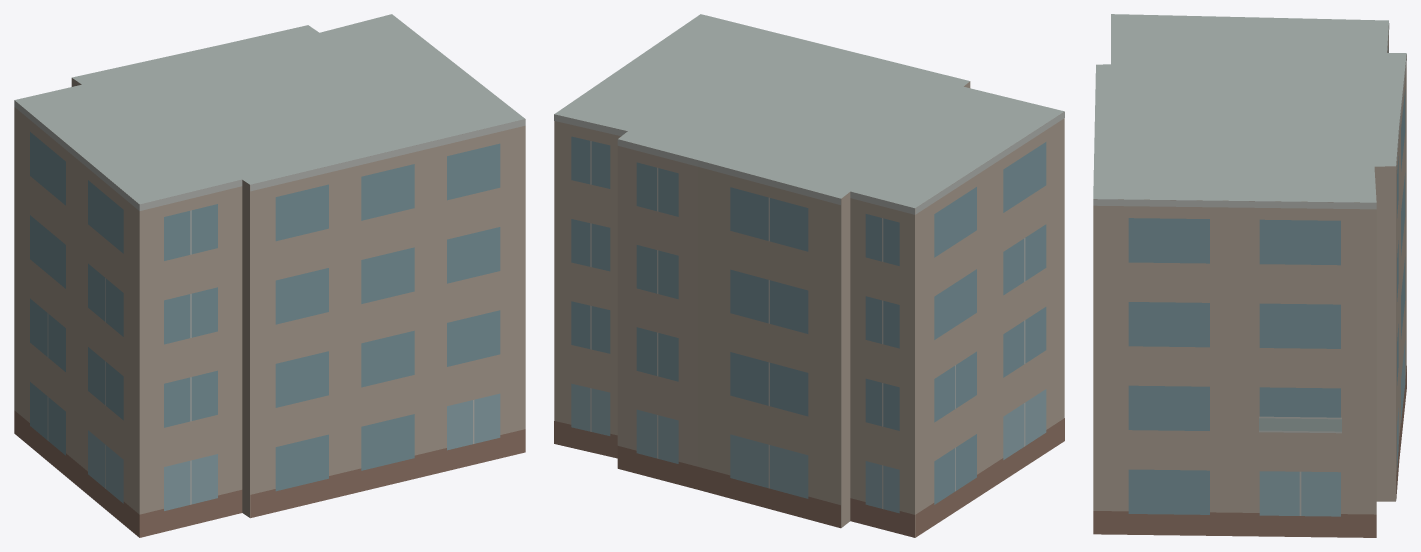
File: survey-upis-32642098.glb
3 views of the same model, side by side, from view 1: azimuth 30°, elevation 25°; view 2: azimuth 150°, elevation 25°; view 3: azimuth 270°, elevation 25° (orthographic).
Parts seen in each view (by area): view 1: survey-upis-32642098.tmp; view 2: survey-upis-32642098.tmp; view 3: survey-upis-32642098.tmp.
Boxes of the visible parts, x1,y1,x2,y2 form: survey-upis-32642098.tmp: [14, 14, 525, 537]; survey-upis-32642098.tmp: [554, 14, 1064, 537]; survey-upis-32642098.tmp: [1093, 14, 1406, 537].
Size of the model in its own units: 14.73 by 12.2 by 10.35.
